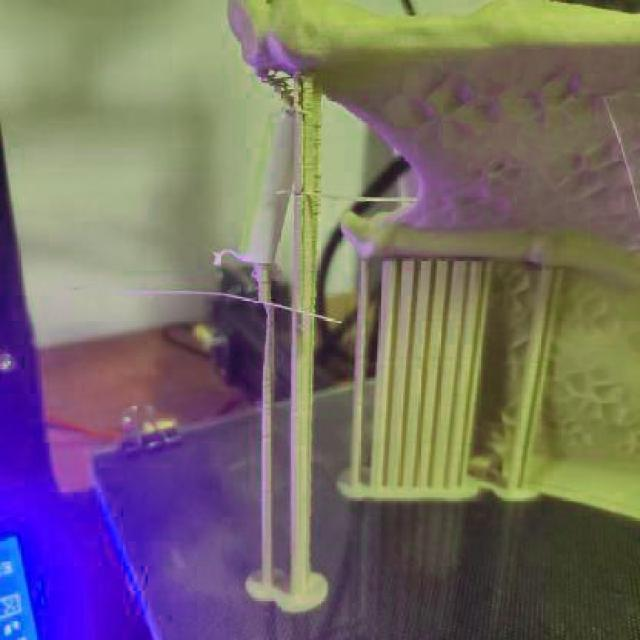spaghetti: (140, 286, 346, 326), (272, 186, 420, 205), (255, 60, 302, 108)
